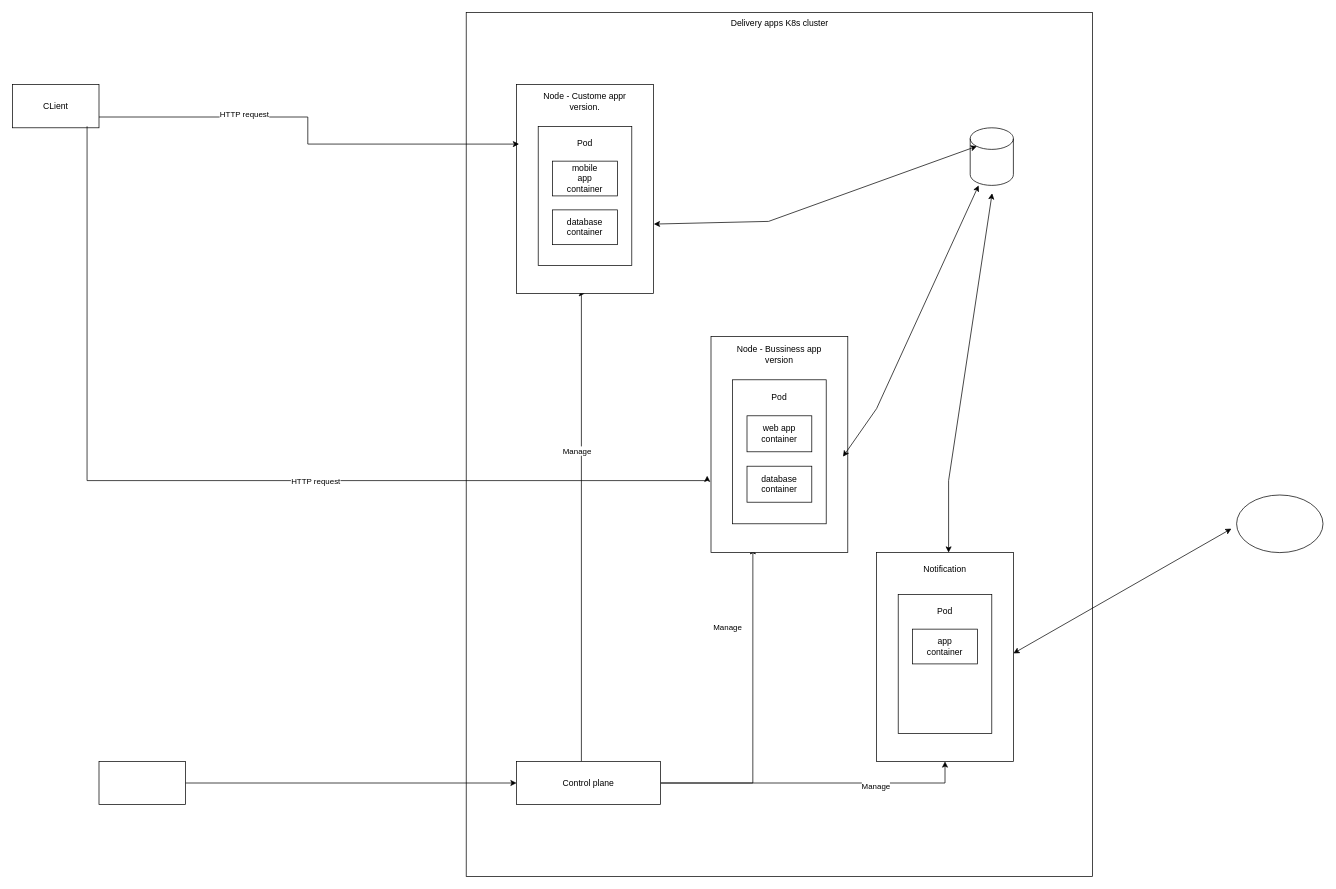
The diagram is 1336 pixels wide and 889 high, and some of its shapes have lost their labels. Each missing label, with the centre of its shape:
email services API: (x=1279, y=523)
My computer: (x=141, y=783)
Volume: (x=991, y=156)
